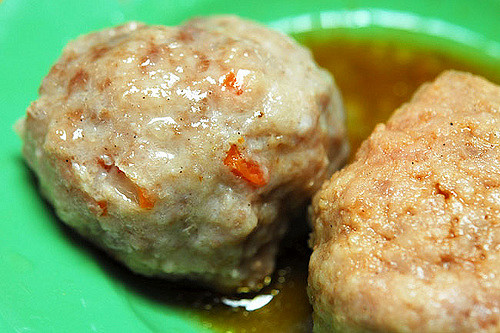meatballs: (41, 36, 302, 243), (358, 130, 483, 312)
